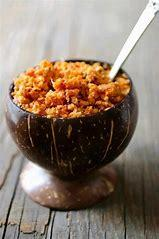Pol Sambol: (15, 36, 129, 131)
